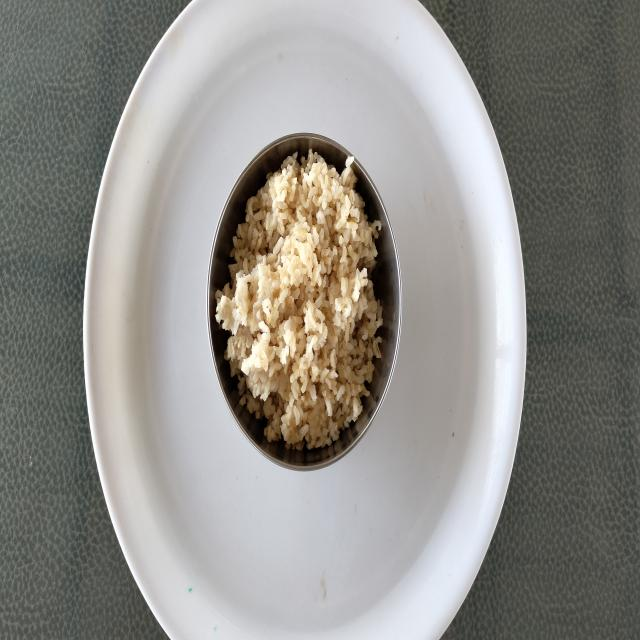brown-rice: (216, 151, 382, 450)
